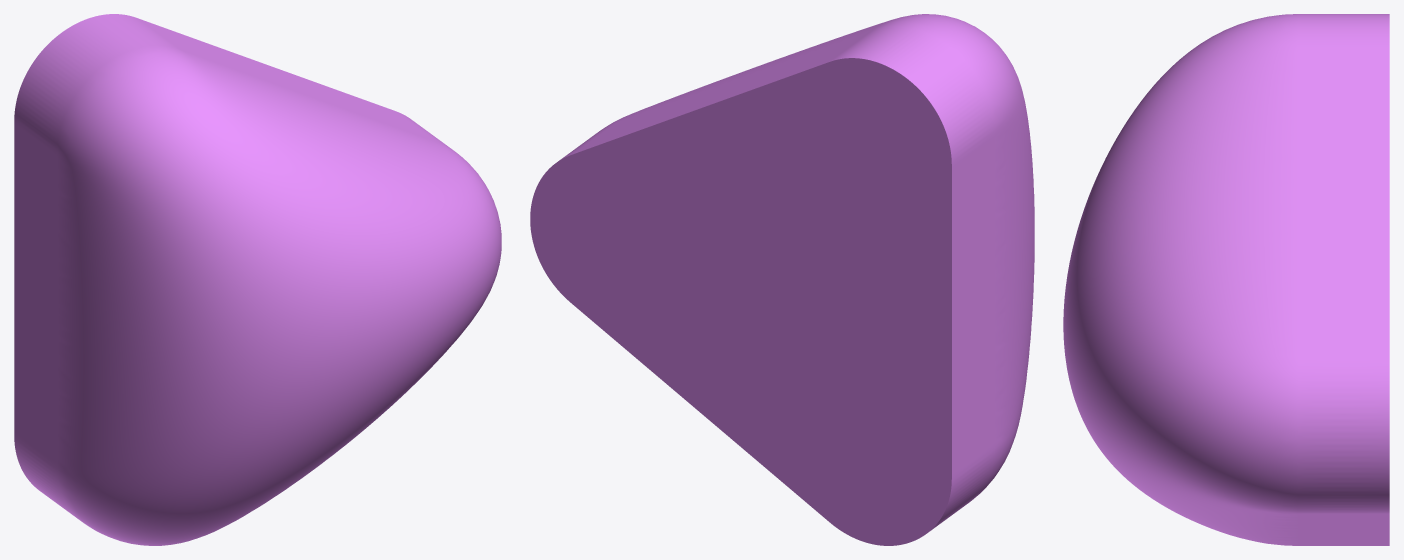
File: PlayRosa.gltf
The picture shows the model from 3 angles, left to right: view 1: azimuth 30°, elevation 25°; view 2: azimuth 150°, elevation 25°; view 3: azimuth 270°, elevation 25°; orthographic projection. The views are drawn at different scales.
Bounding box in the file's own units: 0.0226 × 0.0248 × 0.0143.
